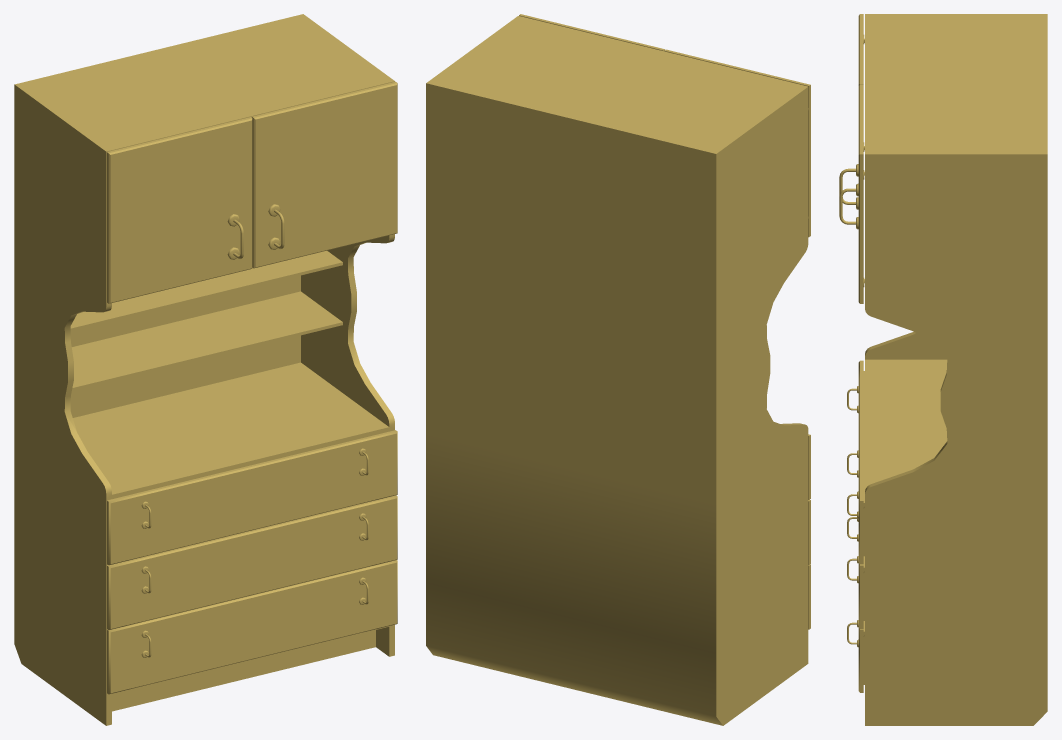
Rendered from Locker_2.fbx.
The picture shows the model from 3 angles, left to right: view 1: azimuth 30°, elevation 25°; view 2: azimuth 150°, elevation 25°; view 3: azimuth 270°, elevation 25°; orthographic projection.
Parts seen in each view (by area): view 1: Locker_1, Locker_2_door_r, Locker_2_door_l, Locker_2_box_3, Locker_2_box_2, Locker_2_box_1; view 2: Locker_1, Locker_2_door_r; view 3: Locker_1, Locker_2_door_l, Locker_2_box_3, Locker_2_door_r, Locker_2_box_2, Locker_2_box_1.
Part boxes in pixels (x1,y1,x2,y2): Locker_1: (14, 14, 394, 725); Locker_2_door_r: (107, 117, 252, 303); Locker_2_door_l: (252, 81, 397, 268); Locker_2_box_3: (107, 430, 397, 565); Locker_2_box_2: (107, 495, 397, 630); Locker_2_box_1: (107, 560, 397, 694); Locker_1: (426, 16, 808, 725); Locker_2_door_r: (664, 49, 810, 237); Locker_1: (864, 14, 1047, 725); Locker_2_door_l: (839, 84, 864, 303); Locker_2_box_3: (847, 360, 864, 564); Locker_2_door_r: (839, 14, 864, 209); Locker_2_box_2: (847, 450, 864, 628); Locker_2_box_1: (847, 517, 864, 692).
Bounding box in the file's own units: 100 × 190 × 62.65.
